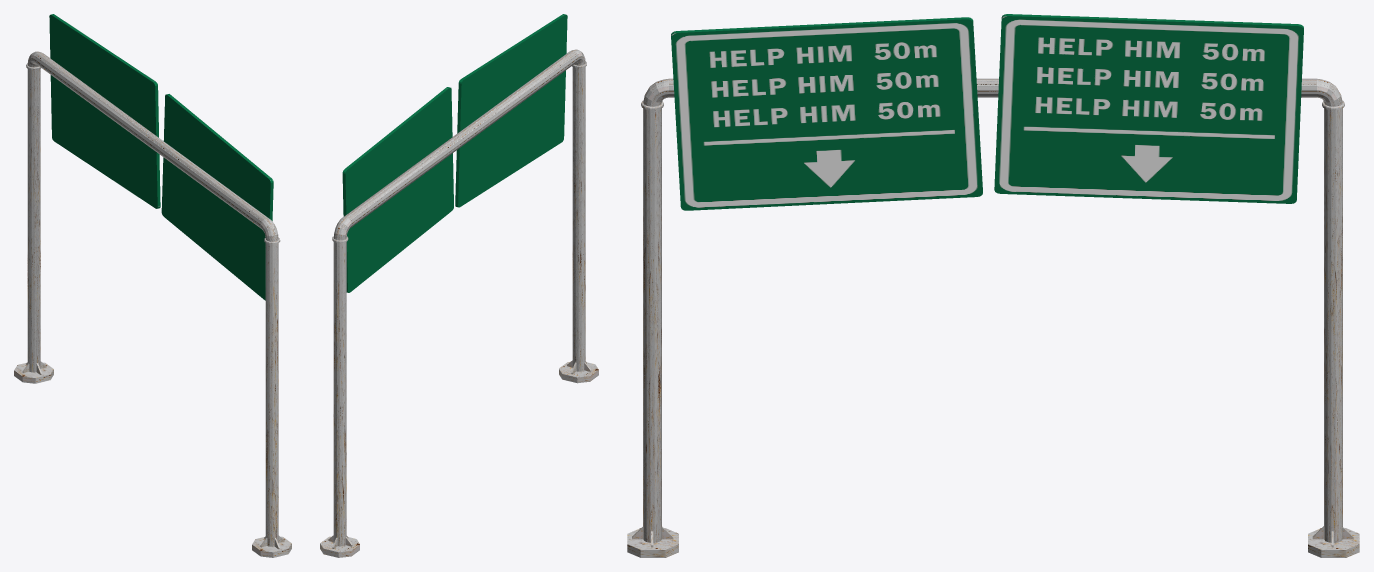
The model's file is direction board 1.fbx.
3 views of the same model, side by side, from view 1: azimuth 30°, elevation 25°; view 2: azimuth 150°, elevation 25°; view 3: azimuth 270°, elevation 25° (orthographic). The views are drawn at different scales.
Visible parts, largest first — view 1: Cube.019; view 2: Cube.019; view 3: Cube.019.
Boxes of the visible parts, x1,y1,x2,y2 form: Cube.019: (14,14,291,557); Cube.019: (320,14,598,557); Cube.019: (627,14,1359,557).
Bounding box in the file's own units: 19.61 × 225 × 279.
2 materials, 2 textured.
